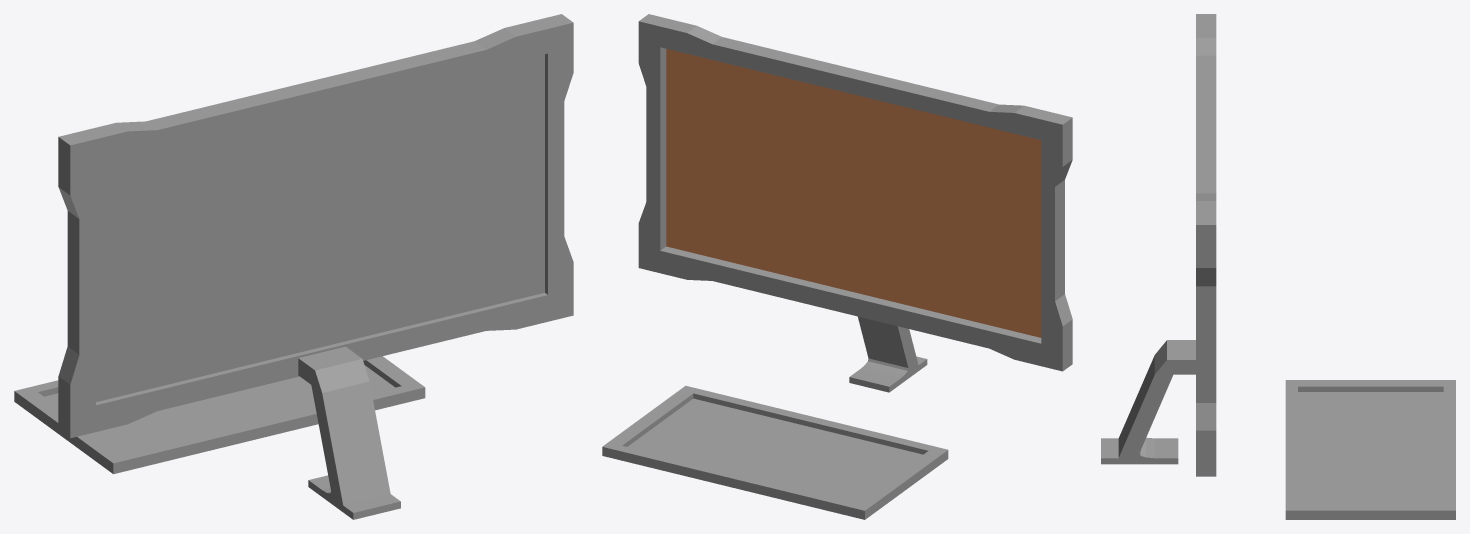
The model's file is Computer-orange.fbx.
3 views of the same model, side by side, from view 1: azimuth 30°, elevation 25°; view 2: azimuth 150°, elevation 25°; view 3: azimuth 270°, elevation 25° (orthographic). The views are drawn at different scales.
Visible parts, largest first — view 1: monitor, keyboard; view 2: monitor, keyboard; view 3: keyboard, monitor.
Boxes of the visible parts, <box> form: monitor: <box>58,14,573,519</box>; keyboard: <box>14,356,425,474</box>; monitor: <box>638,14,1072,392</box>; keyboard: <box>602,385,948,519</box>; keyboard: <box>1285,380,1455,519</box>; monitor: <box>1101,14,1216,476</box>.
Size of the model in its own units: 587 by 435 by 417.
